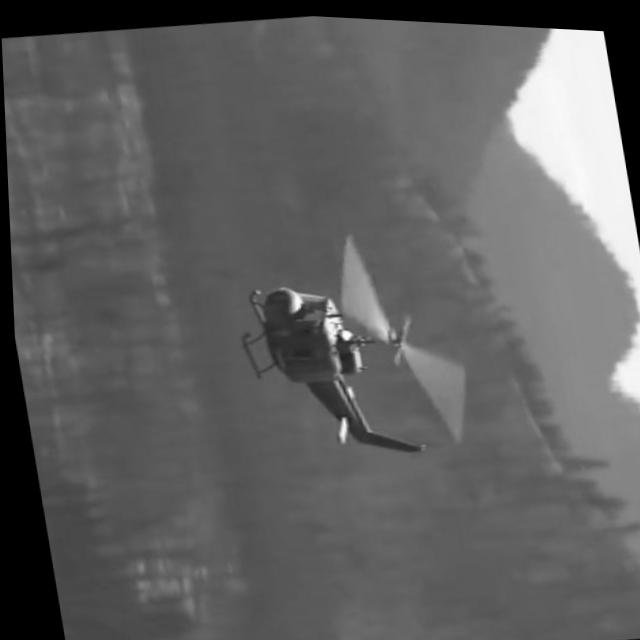helikopter: (188, 233, 470, 485)
